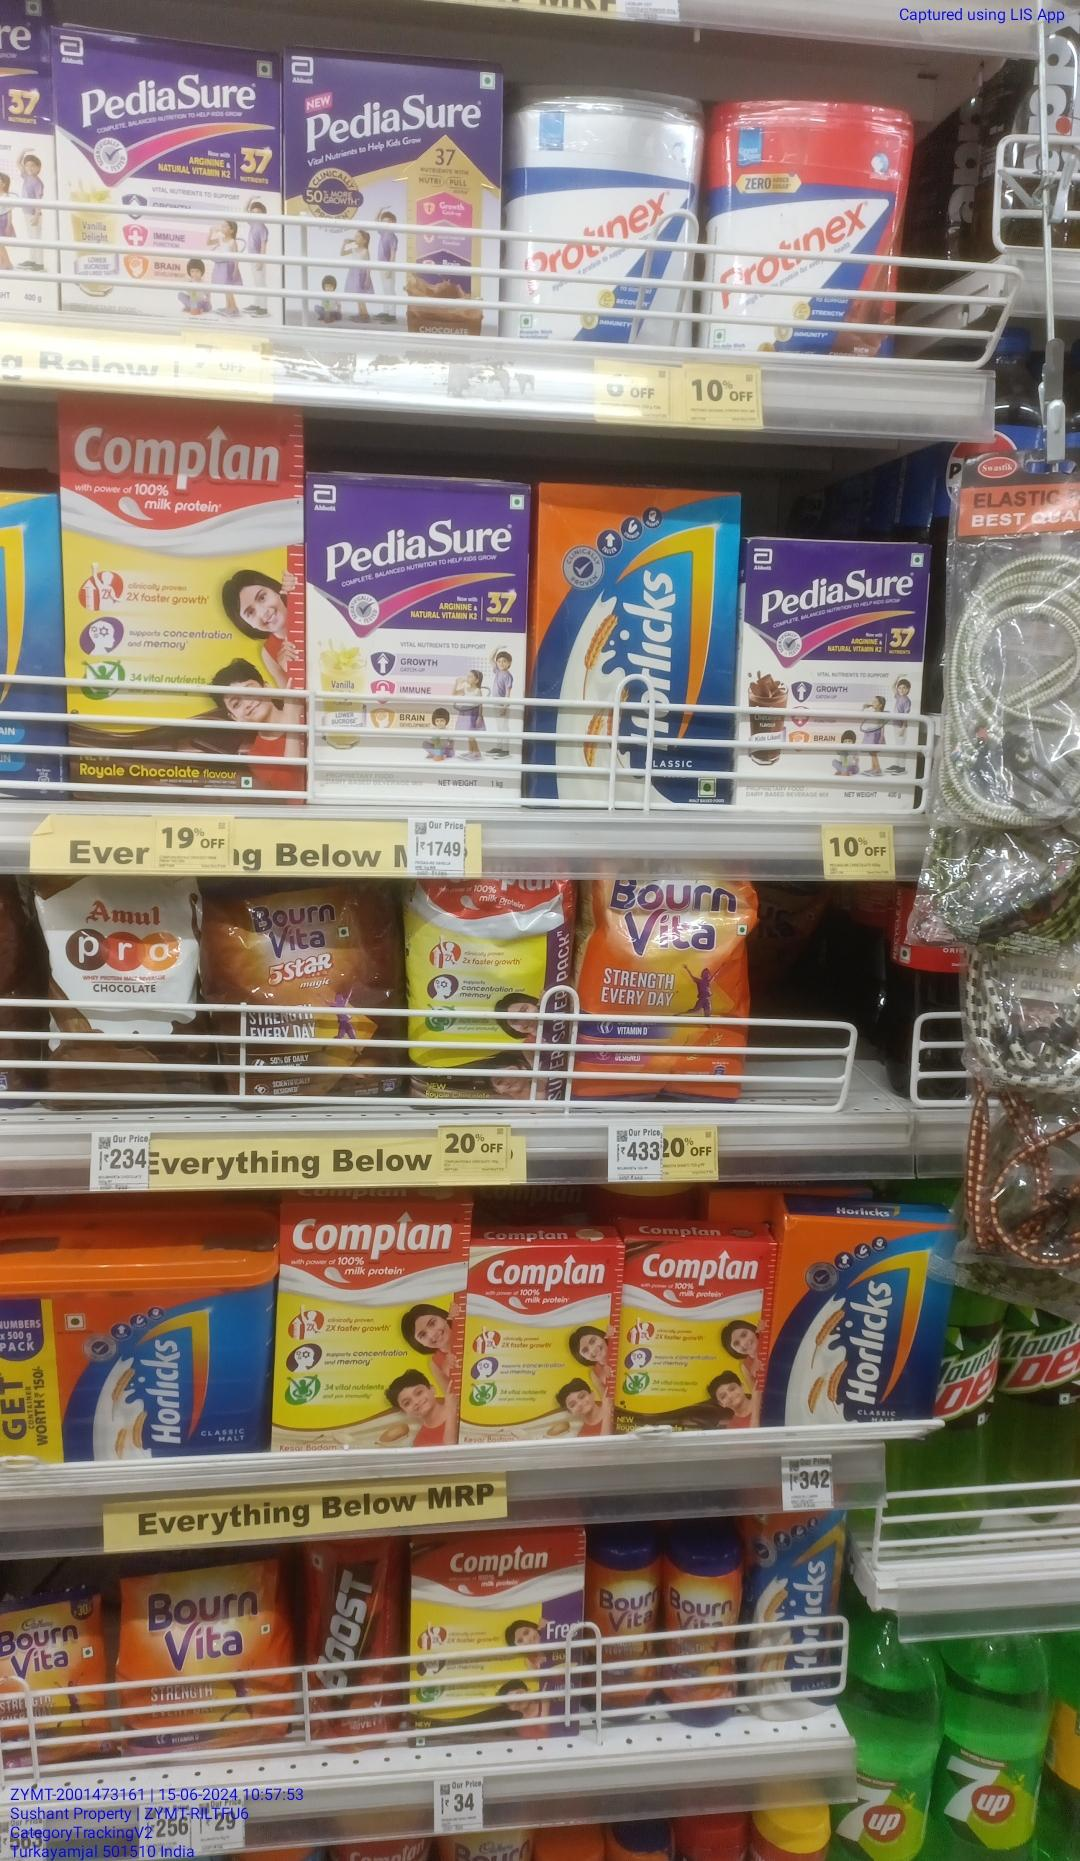BOURN_VITA_500_G_JAR: (662, 1535, 734, 1726), (585, 1541, 652, 1727)
BOURN_VITA_500_G_POUCH: (116, 1560, 294, 1762)
BOURN_VITA_750_G_POUCH: (582, 882, 746, 1101)
BOURN_VITA_FIVE_STAR_MAGIC_500_G_POUCH: (203, 892, 402, 1104)
COMPLAN_CHOCOLATE_1_KG_PACK: (72, 395, 303, 803)
COMPLAN_CHOCOLATE_200_GMS_PACK: (622, 1245, 761, 1434)
COMPLAN_CHOCOLATE_500_GMS_PACK: (408, 1542, 579, 1734)
COMPLAN_KESAR_BADAM_200_GMS_PACK: (465, 1247, 615, 1441)
COMPLAN_KESAR_BADAM_500_GMS_PACK: (274, 1202, 456, 1448)
COMPLAN_RC_POUCH_700_GMS_12: (409, 884, 576, 1104)
HORLICK_CLASSIC_MALT_500_G_JAR: (742, 1515, 841, 1718)
HORLICK_CLASSIC_MALT_500_G_PACK: (534, 487, 730, 808), (778, 1215, 941, 1425)
HORLICK_MALT_1_KG_CONTAINER: (0, 1260, 266, 1460)
PEDIASURE_CHOCOLATE_500_G_PACK: (285, 49, 499, 337)
PROTINEX_CHOCOLATE_400_G_JAR: (710, 100, 906, 360)
PROTINEX_ORIGINAL_400_G_JAR: (507, 91, 701, 350)
